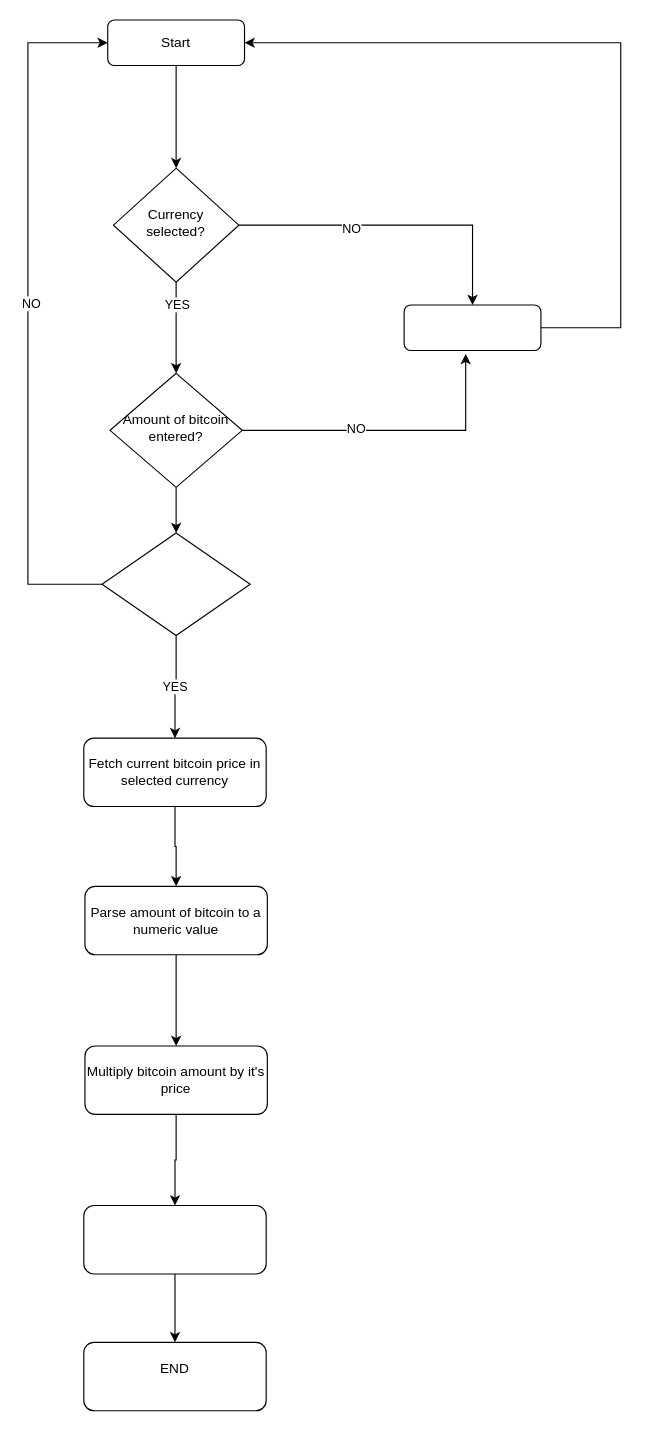
Image size: 650x1431. Some labels were removed from this diagram. The shapes that lost their labels are listed below. From the top down, each one's centre as x and y in pixels, then its label:
(x=472, y=327): MessageBox displays error
(x=175, y=584): Is "Get rates" button clicked?
(x=174, y=1239): Display result in "result" text box
